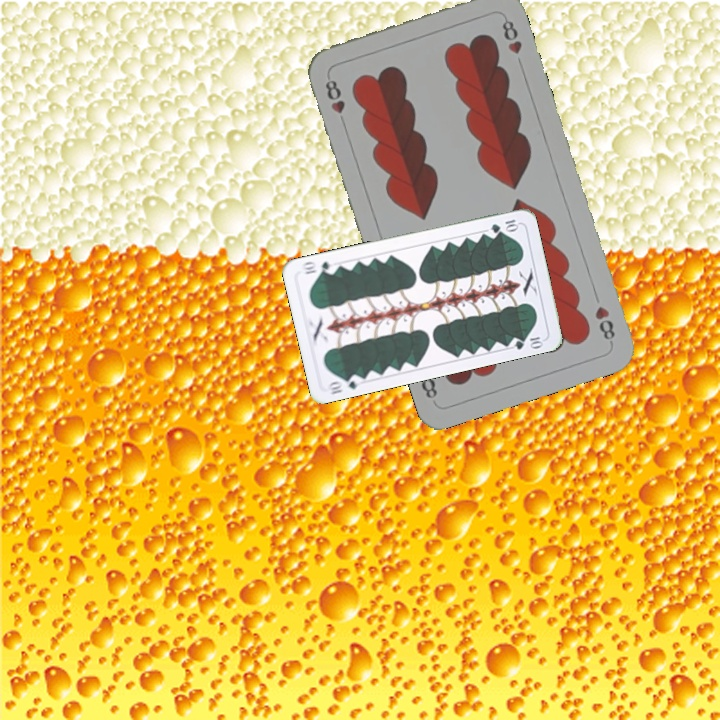G10: (323, 371, 364, 397), (487, 215, 521, 235)
H8: (591, 302, 618, 347), (321, 76, 348, 117)
